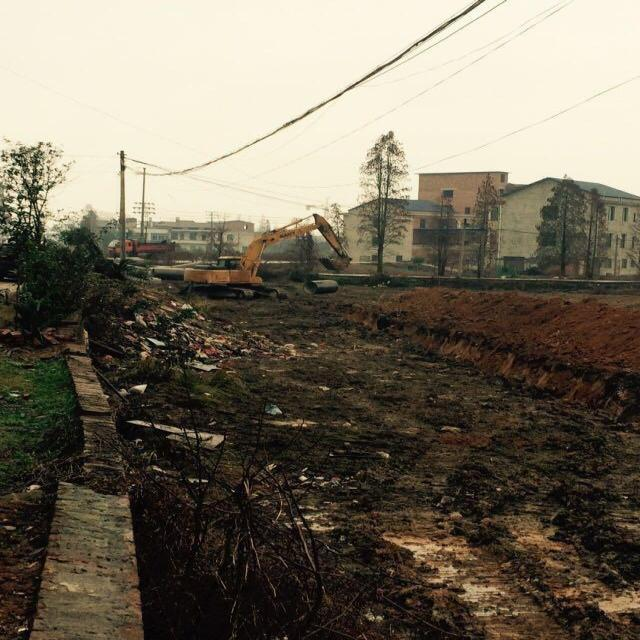excavator: (176, 206, 362, 309)
